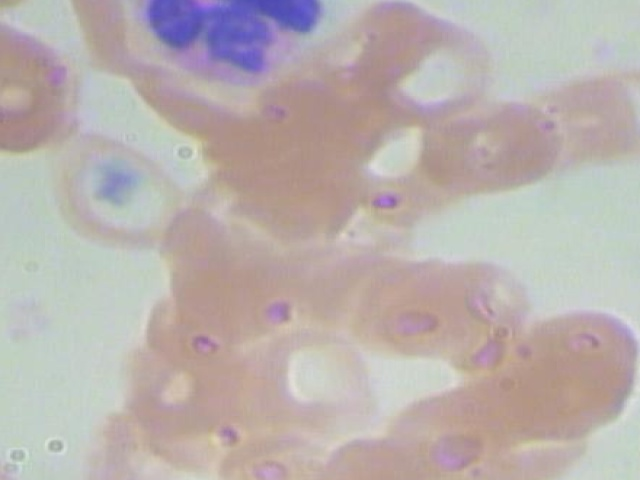RBC: (351, 241, 536, 363), (493, 301, 640, 437), (412, 82, 572, 205), (348, 2, 499, 126), (244, 315, 389, 438), (111, 320, 255, 443), (42, 128, 181, 250), (0, 31, 88, 153), (585, 49, 640, 172), (628, 378, 640, 480)
WBC: (131, 0, 325, 93)
